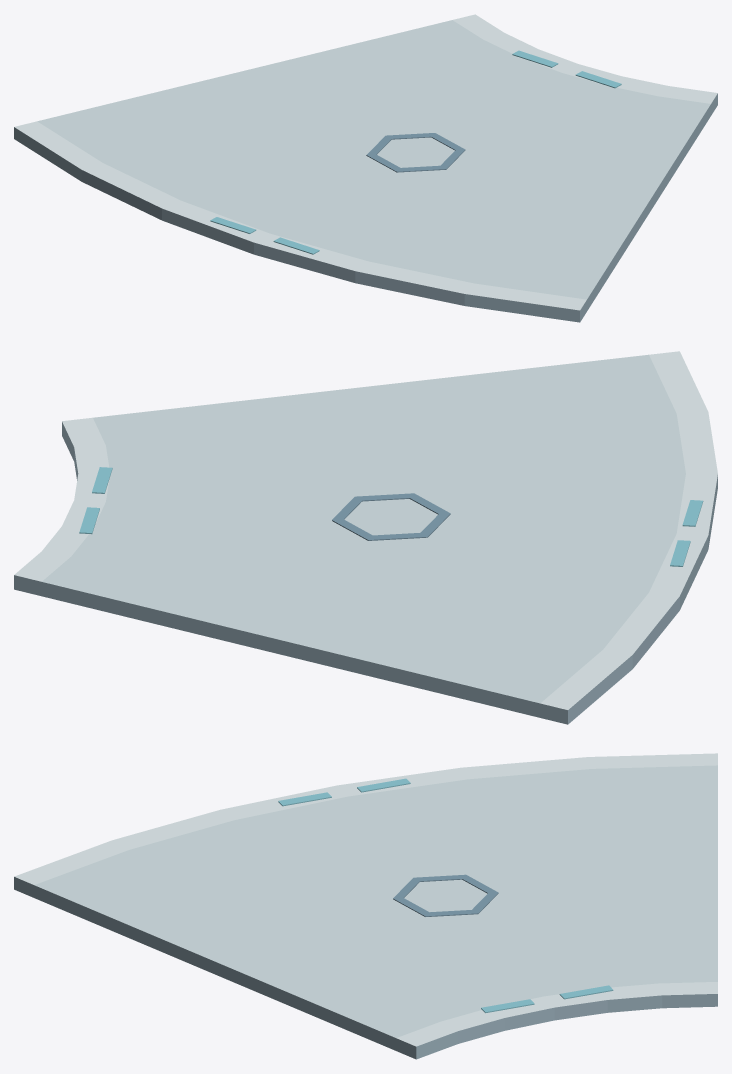
File: campus_walk_bend_45_v01.glb
3 renders of one model, top to bottom at view 1: azimuth 30°, elevation 25°; view 2: azimuth 150°, elevation 25°; view 3: azimuth 270°, elevation 25°, orthographic. The views are drawn at different scales.
Parts seen in each view (by area): view 1: campus_walk_bend_45; view 2: campus_walk_bend_45; view 3: campus_walk_bend_45.
Boxes of the visible parts, box(x1,y1,x2,y2) form: campus_walk_bend_45: box(14, 14, 717, 322); campus_walk_bend_45: box(14, 351, 717, 724); campus_walk_bend_45: box(14, 753, 717, 1059).
Bounding box in the file's own units: 3.9 × 0.087 × 3.96.
Materials: 1 (1 with a texture image).
